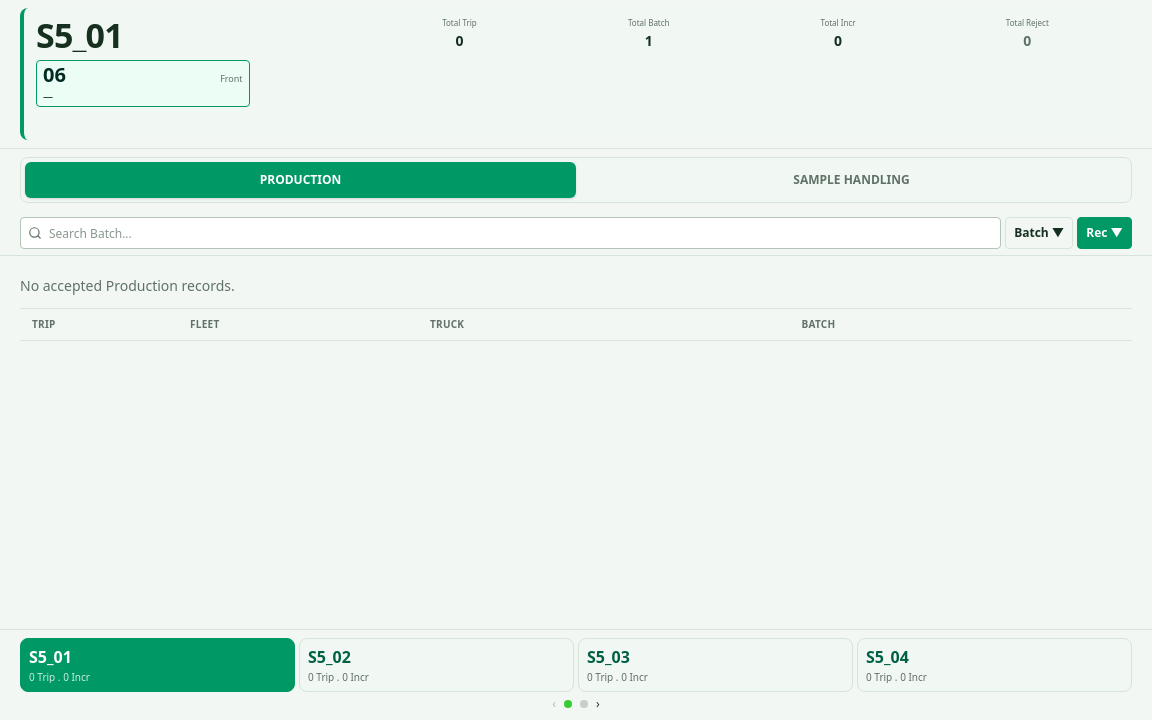
Test case: ProductionPage Record workspace › shows exactly four active Pile cards per page and changes selected Pile in place
Check: the button "S5_01 0 Trip . 0 Incr" is shown, box [20,638,295,692]
Check: the number of buttons "S5_01 0 Trip . 0 Incr" is 4, box [20,638,295,692]; [299,638,574,692]; [578,638,853,692]; [857,638,1132,692]
Click the button named "Next Pile page" at (598, 704), box [596,696,600,712]
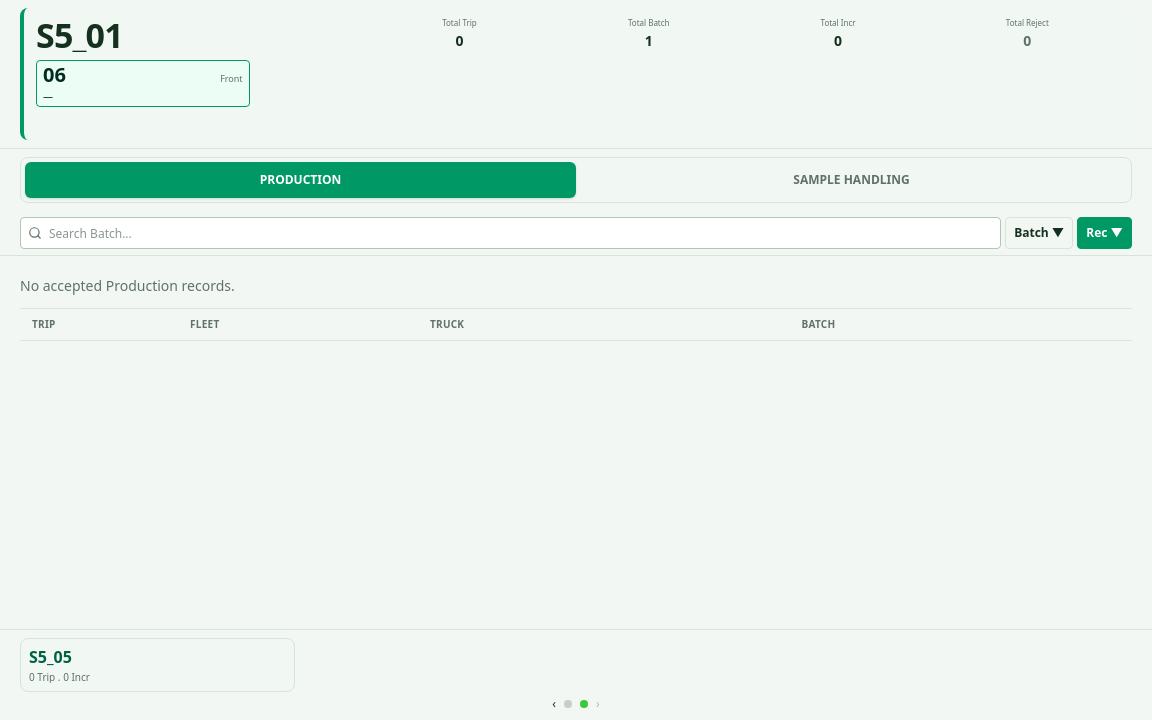
Click the button "S5_05 0 Trip . 0 Incr" at (50, 656), box [20,638,295,692]
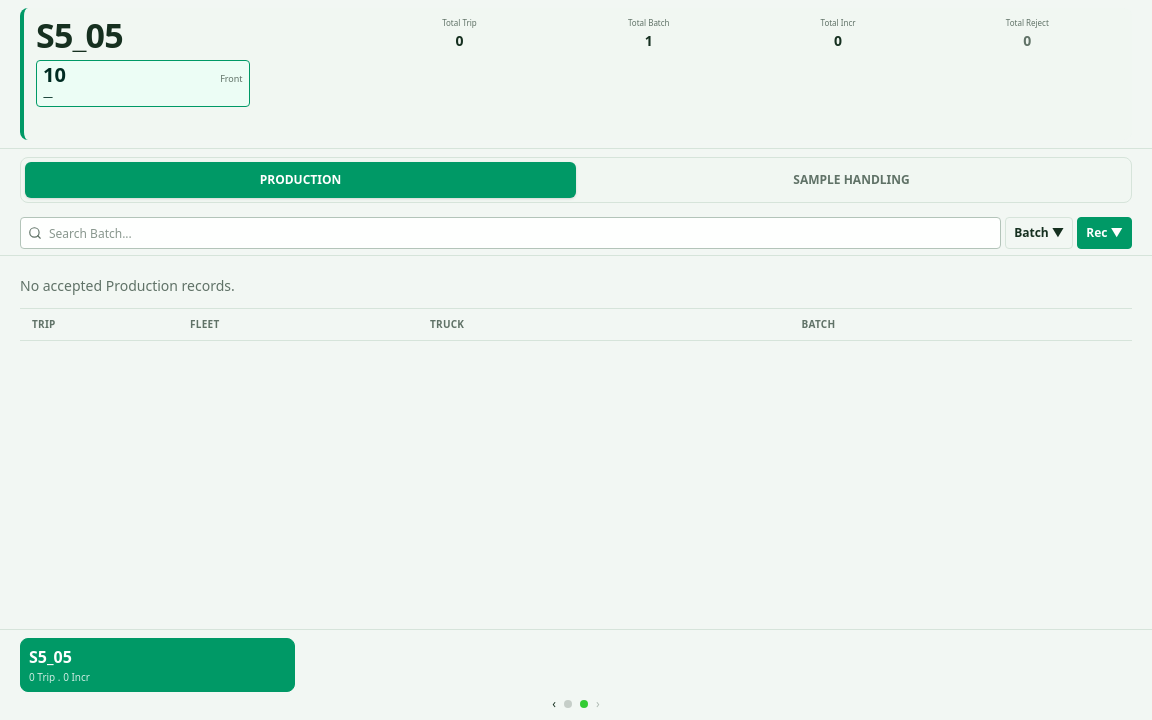
Check: the element named "Production dashboard" shows "S5_05", box [36,12,123,58]
